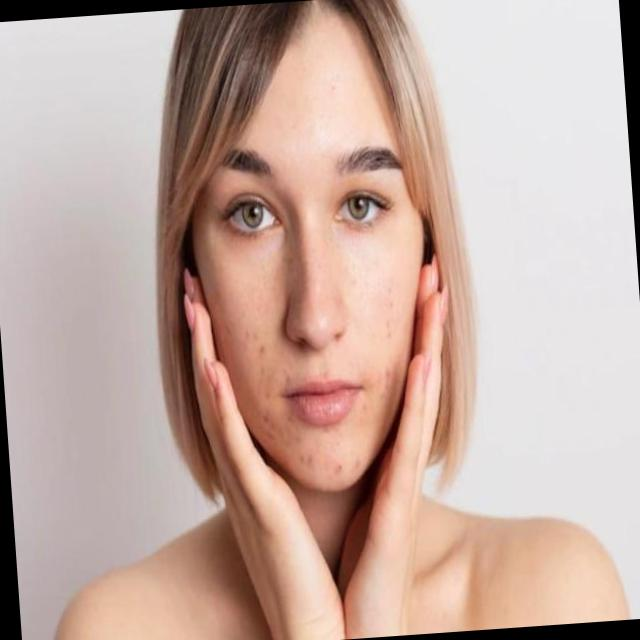redness: (385, 375, 395, 388)
